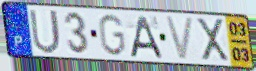3: (63, 10, 91, 56)
A: (128, 14, 165, 60)
G: (96, 13, 127, 58)
U: (28, 8, 63, 56)
V: (163, 15, 196, 62)
X: (194, 17, 231, 63)
